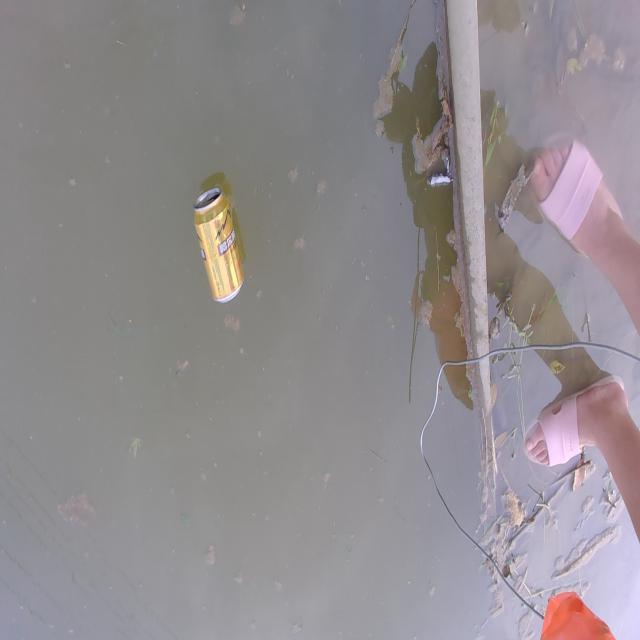garbage: (193, 185, 245, 304)
